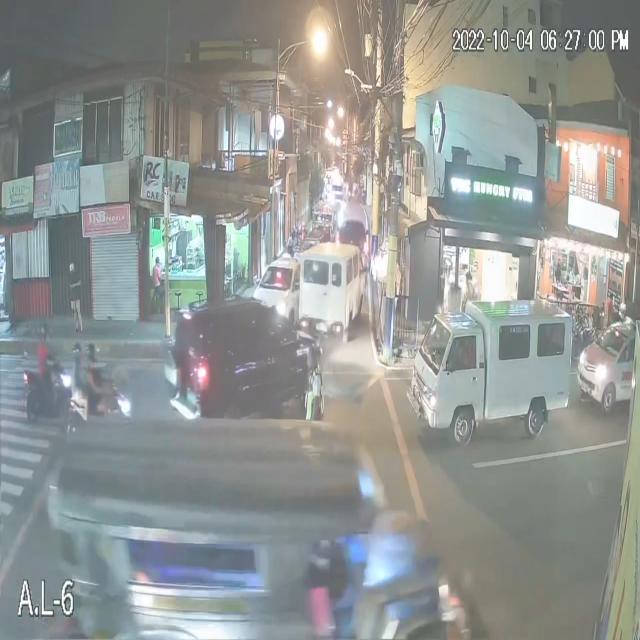Full-Faced: (69, 340, 88, 363), (36, 320, 54, 344), (84, 341, 102, 363)
